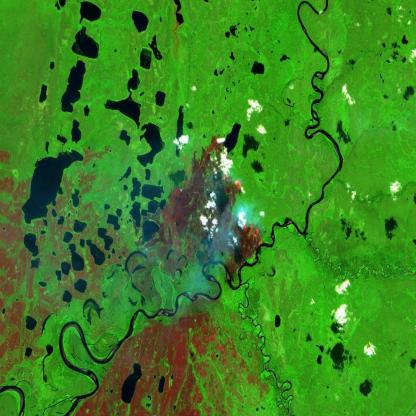fire: (216, 146, 269, 252)
